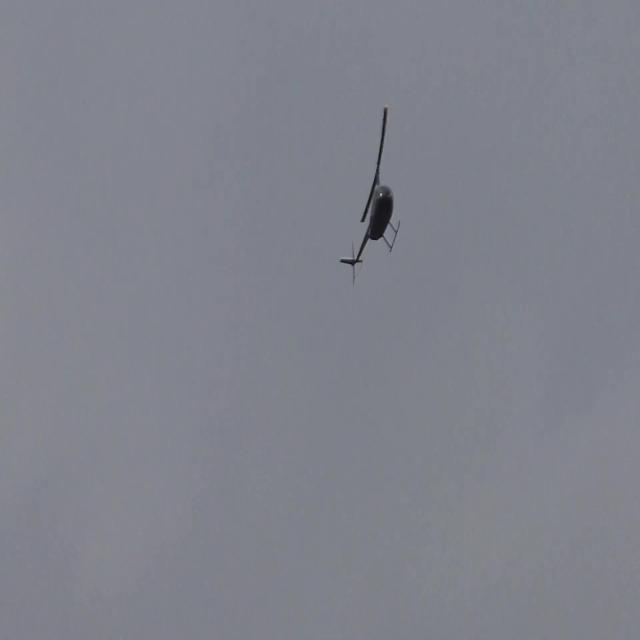CIV_HELO: (340, 165, 402, 266)
